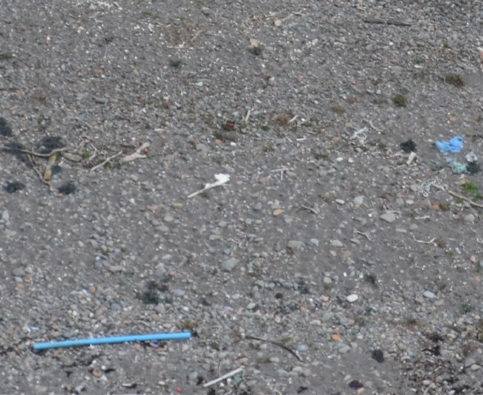net: (428, 129, 482, 178)
straight_bar: (24, 319, 199, 362), (192, 353, 257, 395)
white_in_green: (164, 151, 255, 219)
